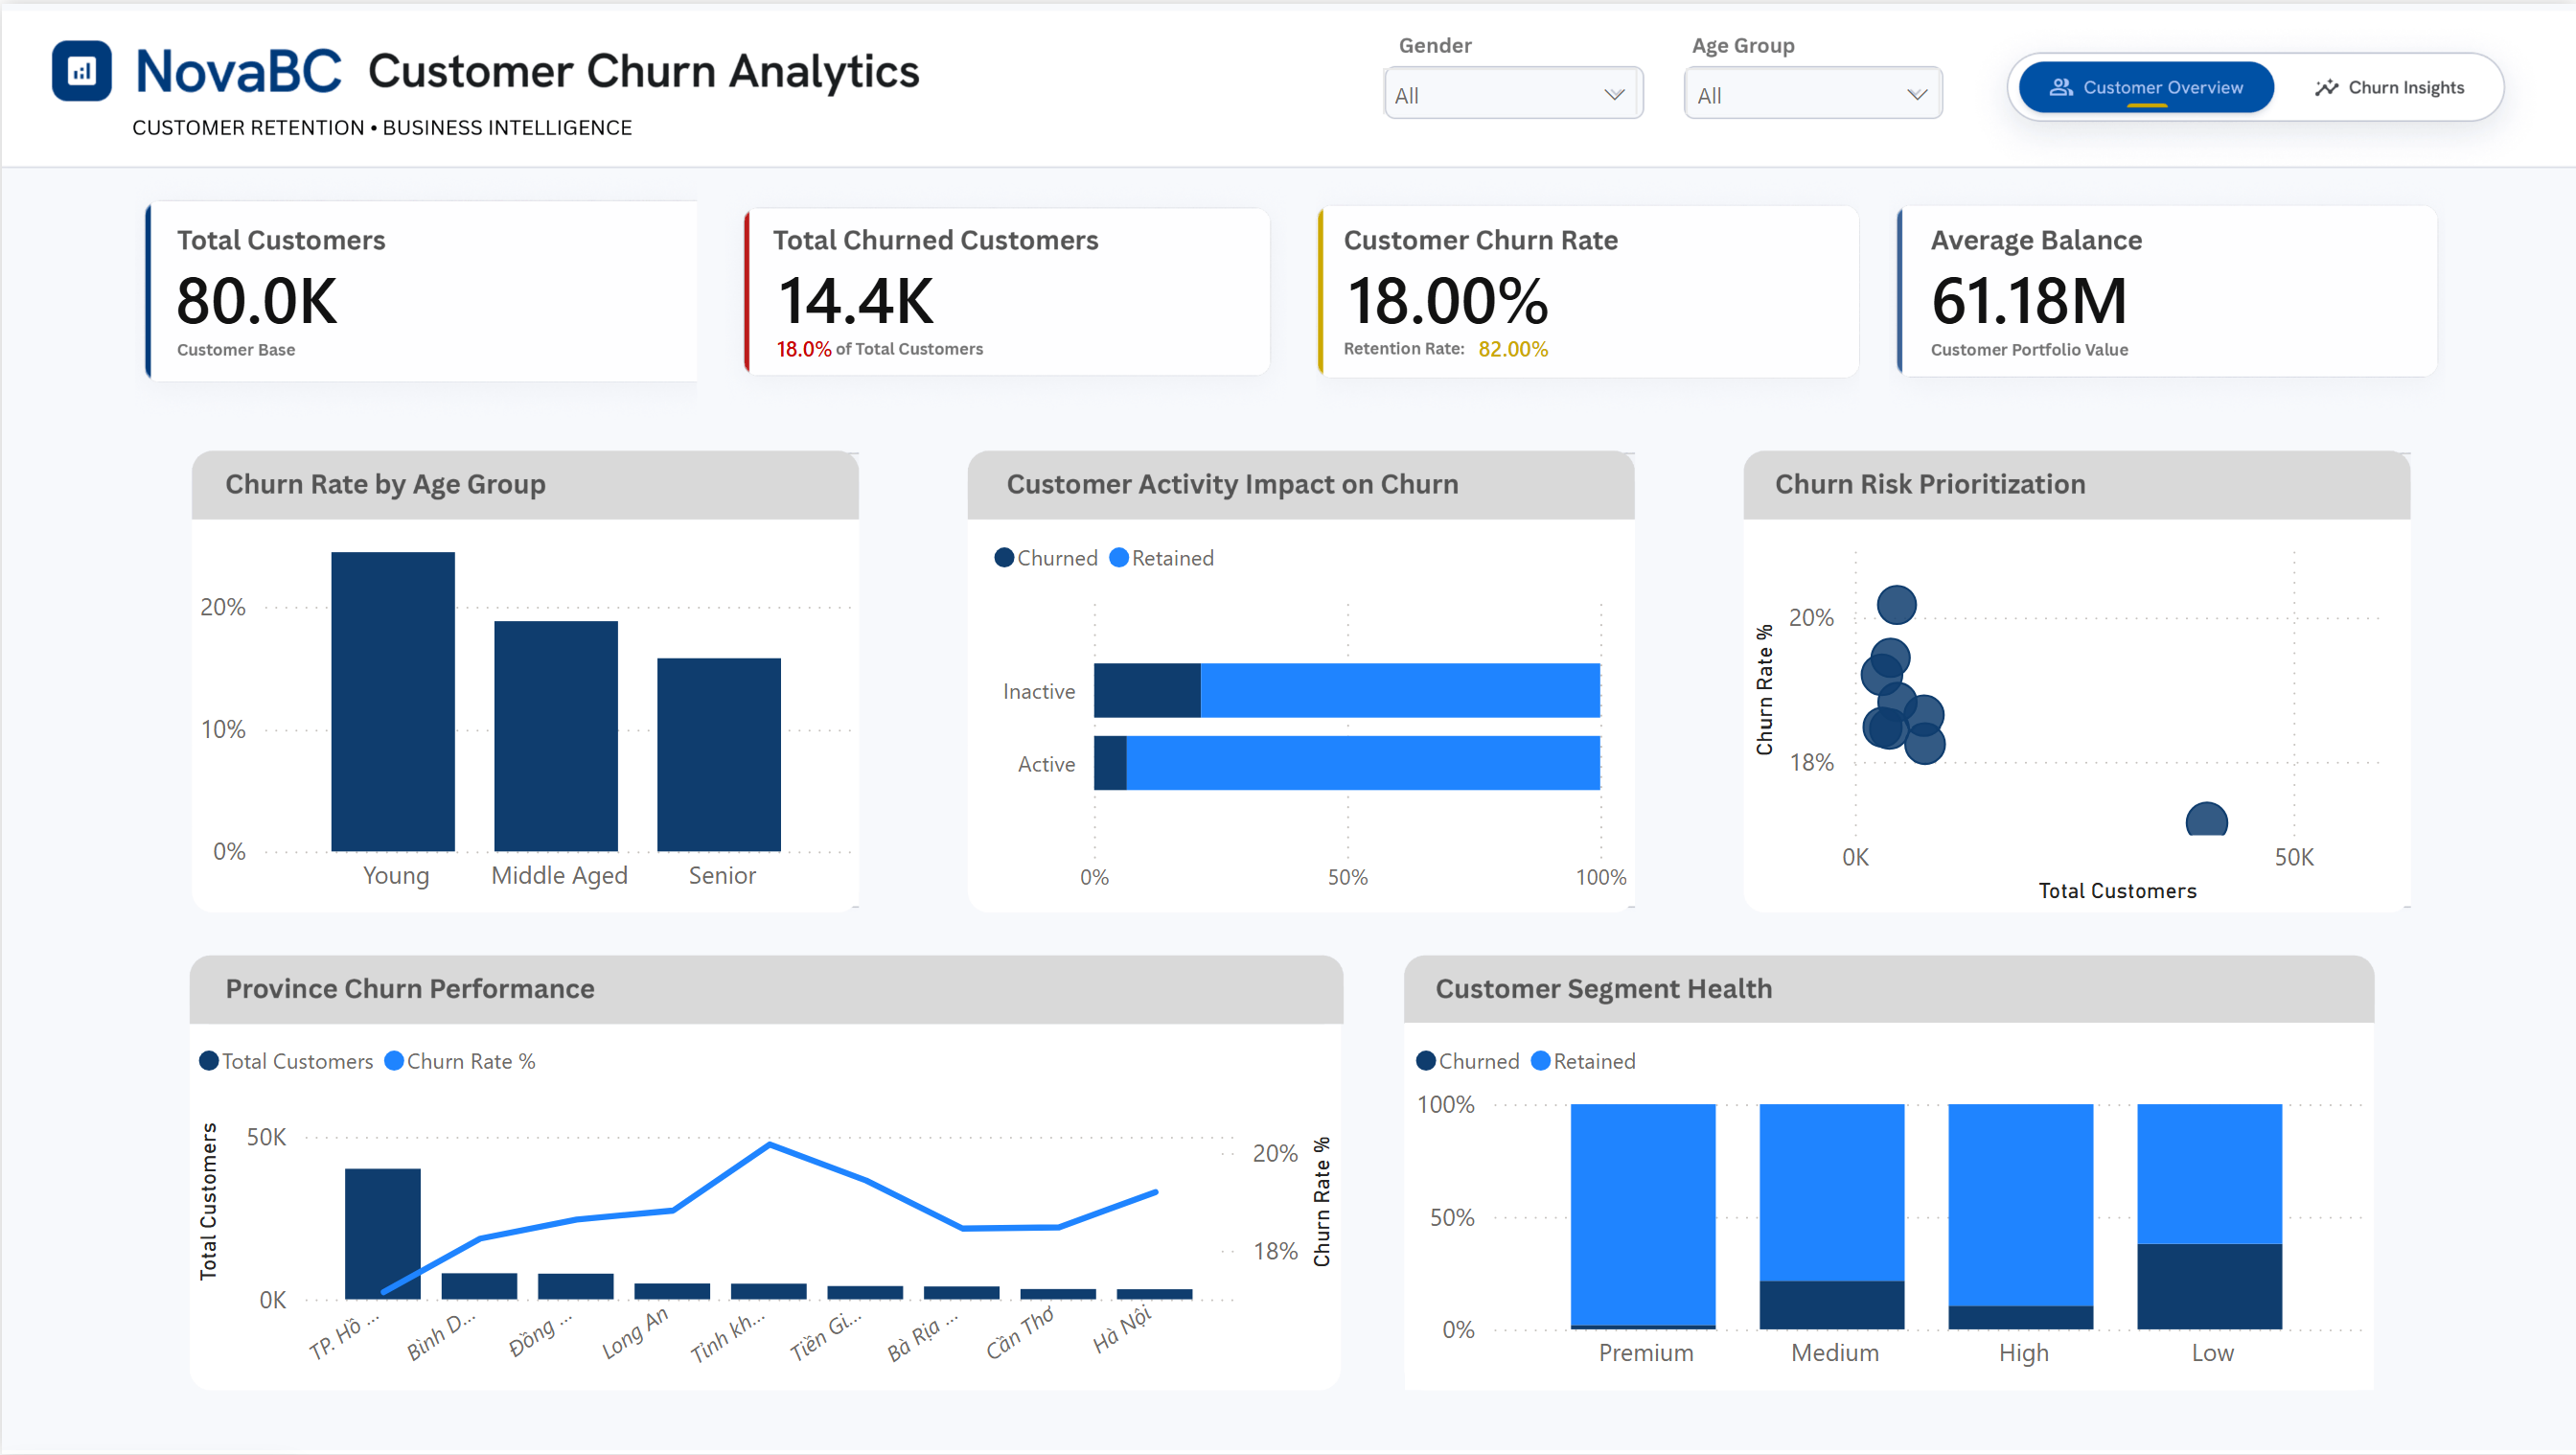

The dashboard page shown, as its layout file describes it:
{"tool":"powerbi","page":{"name":"Overview Dashboard","canvas":[1280,720],"ordinal":0},"visuals":[{"type":"slicer","fields":{"Values":["vw_churn_master.age_group"]},"box":[826.2,21.7,146.7,32.9],"z":0},{"type":"slicer","fields":{"Values":["vw_churn_master.gender"]},"box":[676.2,21.7,146.7,32.9],"z":1000},{"type":"cardVisual","fields":{"Data":["vw_churn_master.Total Customers"]},"box":[56.7,102.6,300,82.6],"z":2000},{"type":"cardVisual","fields":{"Data":["vw_churn_master.Churned Customers"]},"box":[356.7,102.7,300,82.7],"z":3000},{"type":"cardVisual","fields":{"Data":["_Calculations.Churn Rate %"]},"box":[640,102.7,300,82.7],"z":4000},{"type":"cardVisual","fields":{"Data":["_Calculations.Retention Rate %"]},"box":[704.7,134.7,235.3,71.3],"z":5000},{"type":"cardVisual","fields":{"Data":["_Calculations.Avg Balance"]},"box":[929.1,102.7,300,82.7],"z":6000},{"type":"pageNavigator","box":[1130,21.8,115.5,39.1],"z":7000},{"type":"cardVisual","fields":{"Data":["_Calculations.Churned % of Total"]},"box":[356.4,143.6,235,52.9],"z":8000},{"type":"clusteredColumnChart","fields":{"Category":["vw_churn_master.age_group"],"Y":["_Calculations.Churn Rate %"]},"box":[93.1,255.4,334.6,195.4],"z":9000},{"type":"hundredPercentStackedBarChart","fields":{"Category":["vw_churn_master.Member Status"],"Series":["vw_churn_master.exit"],"Y":["_Calculations.Total Customers"]},"box":[487.7,256.2,324.6,194.6],"z":10000},{"type":"scatterChart","fields":{"X":["_Calculations.Total Customers"],"Y":["_Calculations.Churn Rate %"],"Size":["_Calculations.Avg Balance"],"Category":["vw_churn_master.origin_province"]},"box":[865.4,255.4,331.5,195.4],"z":11000},{"type":"lineStackedColumnComboChart","fields":{"Category":["vw_churn_master.origin_province"],"Y":["_Calculations.Total Customers"],"Y2":["_Calculations.Churn Rate %"]},"box":[92.6,505.8,574.2,181.6],"z":11001},{"type":"hundredPercentStackedColumnChart","fields":{"Series":["vw_churn_master.churn_reason_inferred"],"Category":["vw_churn_master.customer_segment"],"Y":["_Calculations.Total Customers"]},"box":[696.7,505.8,481.7,182.5],"z":11002}]}

Visuals, with their boxes in screenshot pixels (x1, y1, x2, y2), scaled from the page's 1280x720 canvas onto the 2576x1455 screenshot:
slicer - vw_churn_master.age_group: 1663:44:1958:110
slicer - vw_churn_master.gender: 1361:44:1656:110
cardVisual - vw_churn_master.Total Customers: 114:207:718:374
cardVisual - vw_churn_master.Churned Customers: 718:208:1322:375
cardVisual - _Calculations.Churn Rate %: 1288:208:1892:375
cardVisual - _Calculations.Retention Rate %: 1418:272:1892:416
cardVisual - _Calculations.Avg Balance: 1870:208:2473:375
pageNavigator: 2274:44:2507:123
cardVisual - _Calculations.Churned % of Total: 717:290:1190:397
clusteredColumnChart - vw_churn_master.age_group x _Calculations.Churn Rate %: 188:516:861:911
hundredPercentStackedBarChart - vw_churn_master.Member Status x vw_churn_master.exit: 981:518:1635:911
scatterChart - _Calculations.Total Customers x _Calculations.Churn Rate %: 1741:516:2408:911
lineStackedColumnComboChart - vw_churn_master.origin_province x _Calculations.Total Customers: 186:1022:1342:1389
hundredPercentStackedColumnChart - vw_churn_master.churn_reason_inferred x vw_churn_master.customer_segment: 1402:1022:2372:1391
